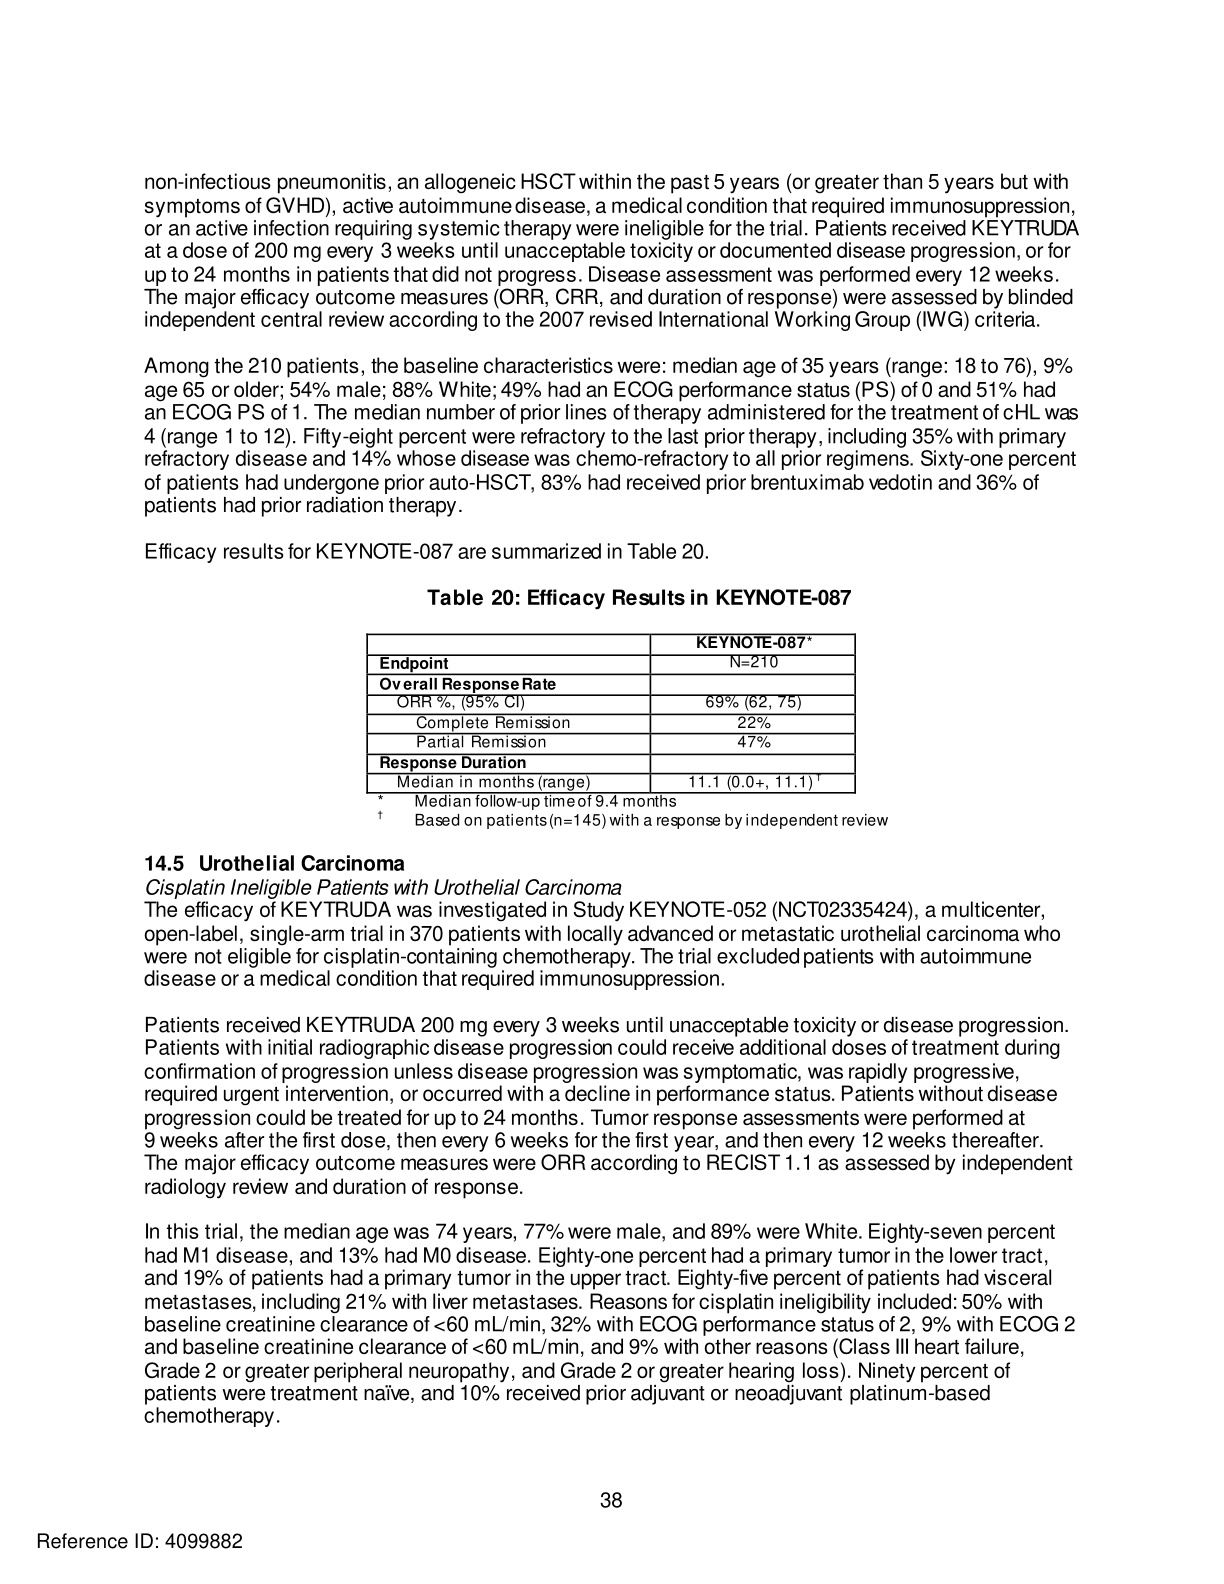full_lined: (365, 633, 858, 795)
